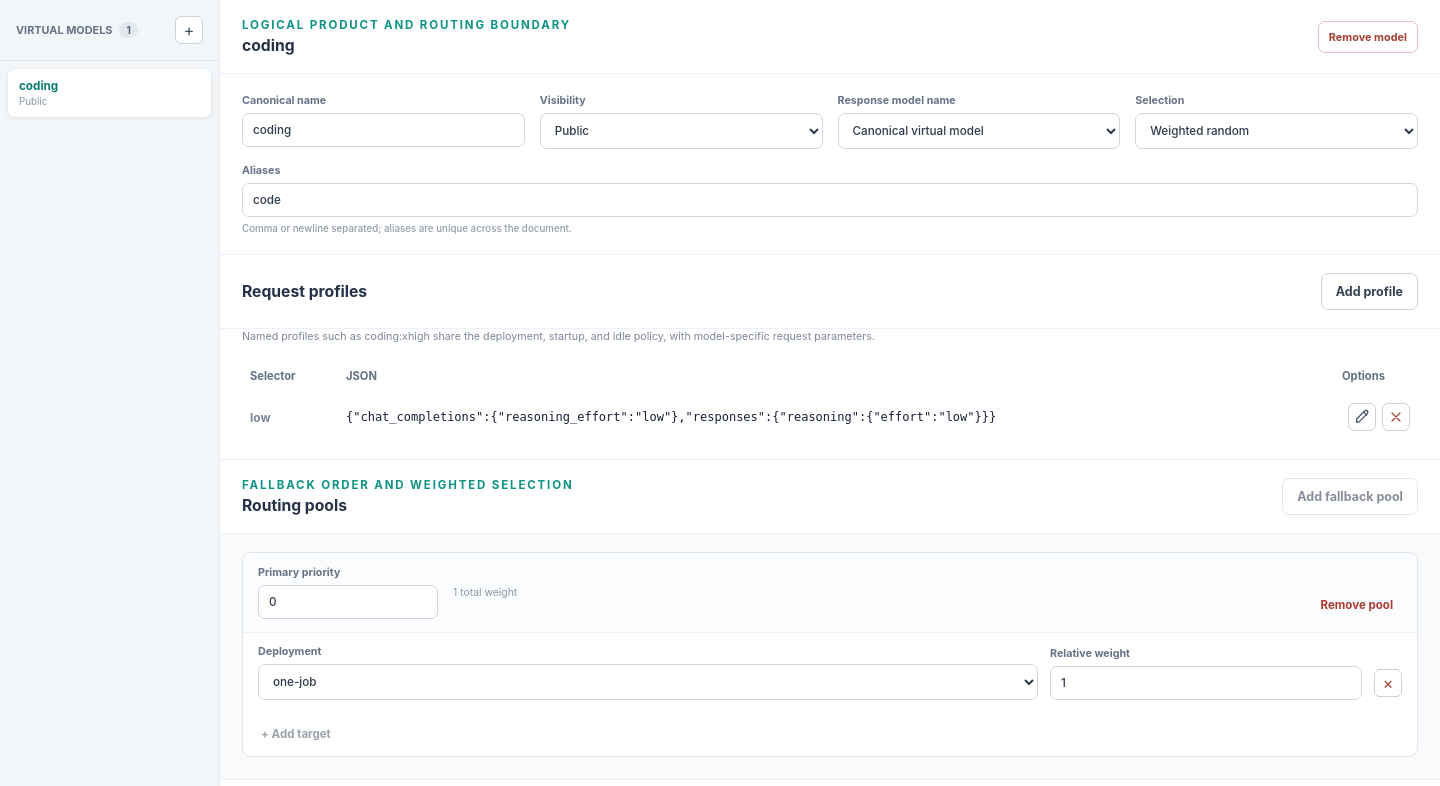
rejects a conflicting selector and invalid JSON without losing the editor draft
Click the button "Add profile" at (1369, 292), box [1321, 273, 1418, 310]
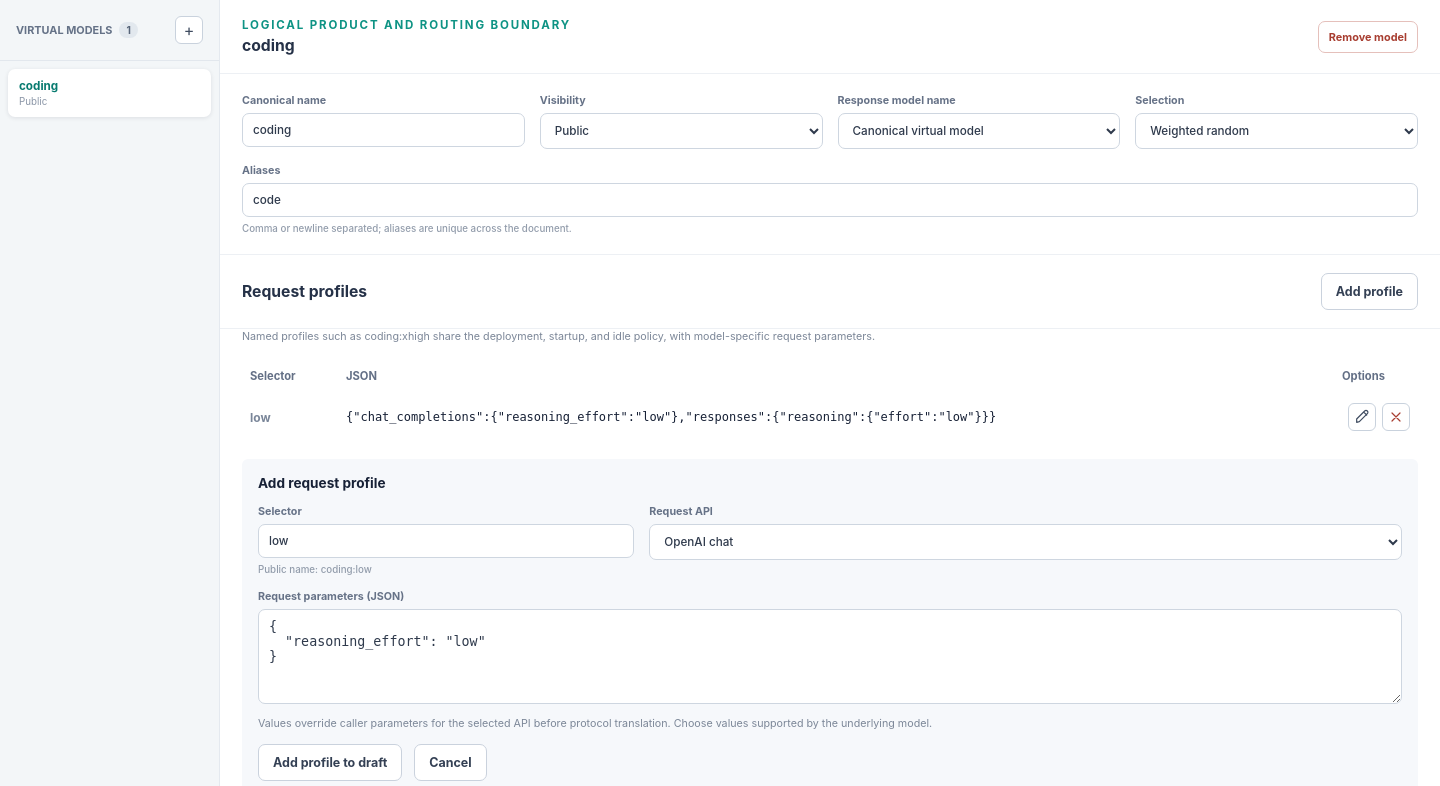
Click the button "Add profile to draft" at (330, 763), box [258, 744, 402, 781]
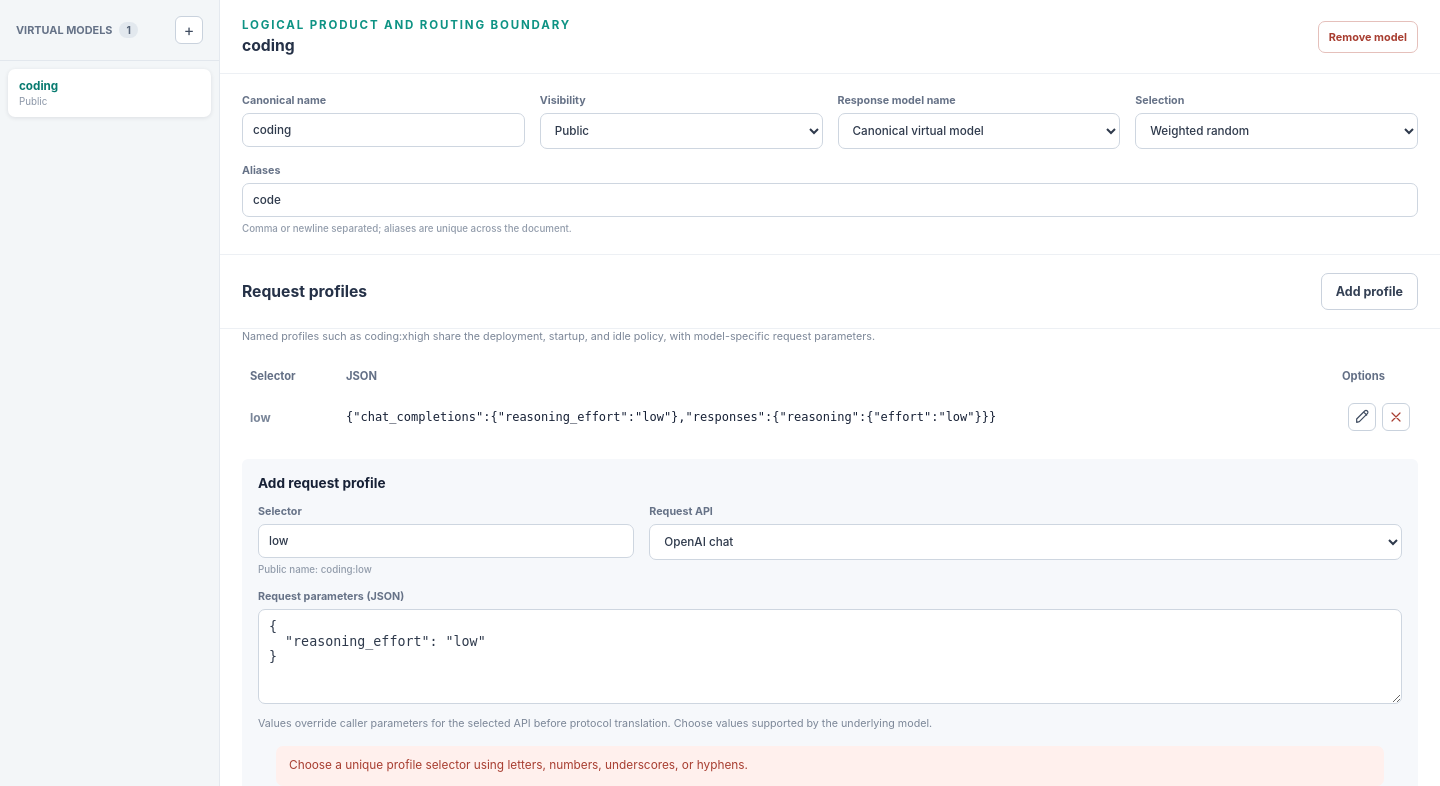
expect the message shows "unique profile selector": met, box [289, 758, 748, 772]
Replace the text in the field named "Profile selector" with "high" at (446, 541), box [258, 524, 634, 558]
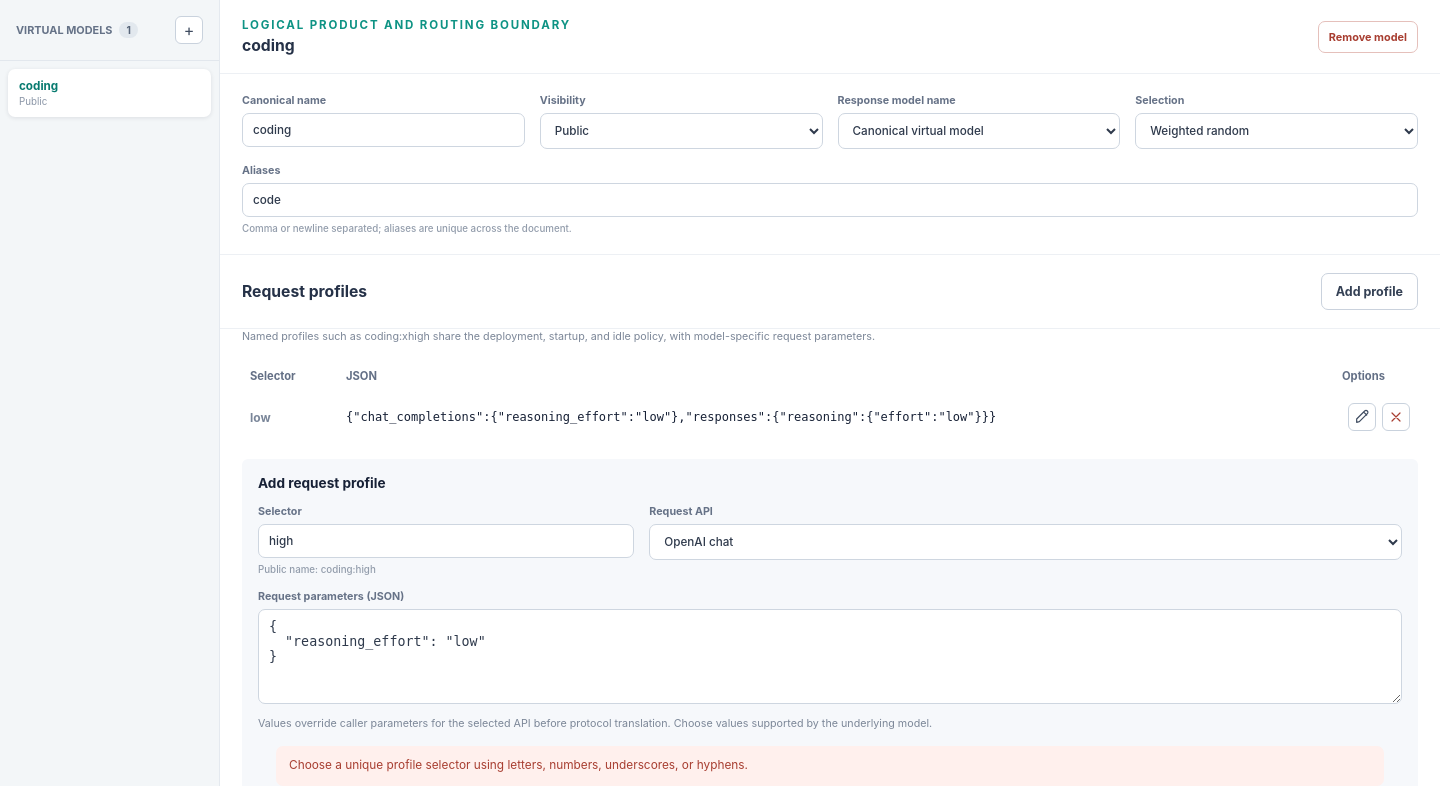
Replace the text in the text box labelled "Request parameters (JSON)" with "[]" at (830, 657), box [258, 609, 1402, 704]
(page scrolled)
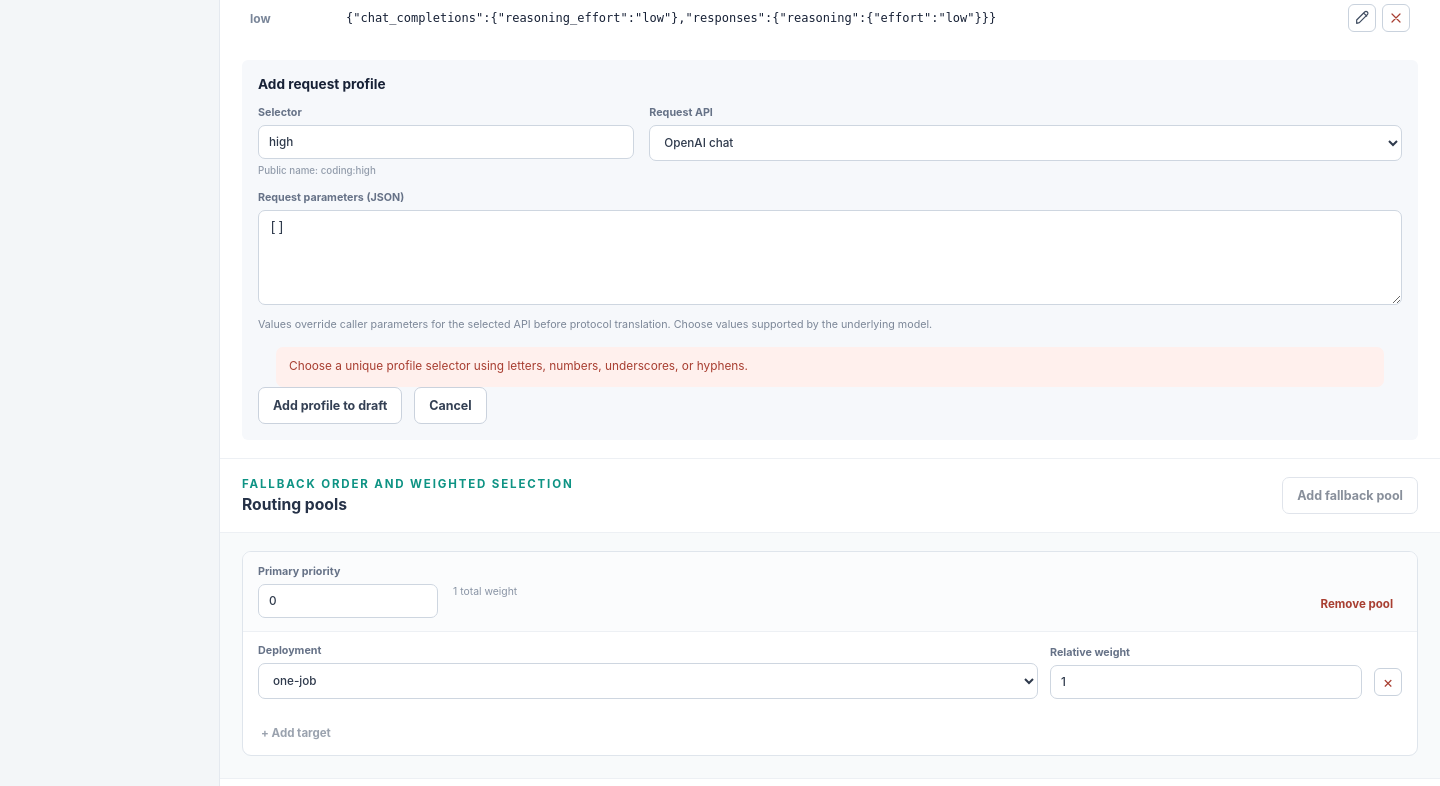
Click the button "Add profile to draft" at (330, 405), box [258, 387, 402, 424]
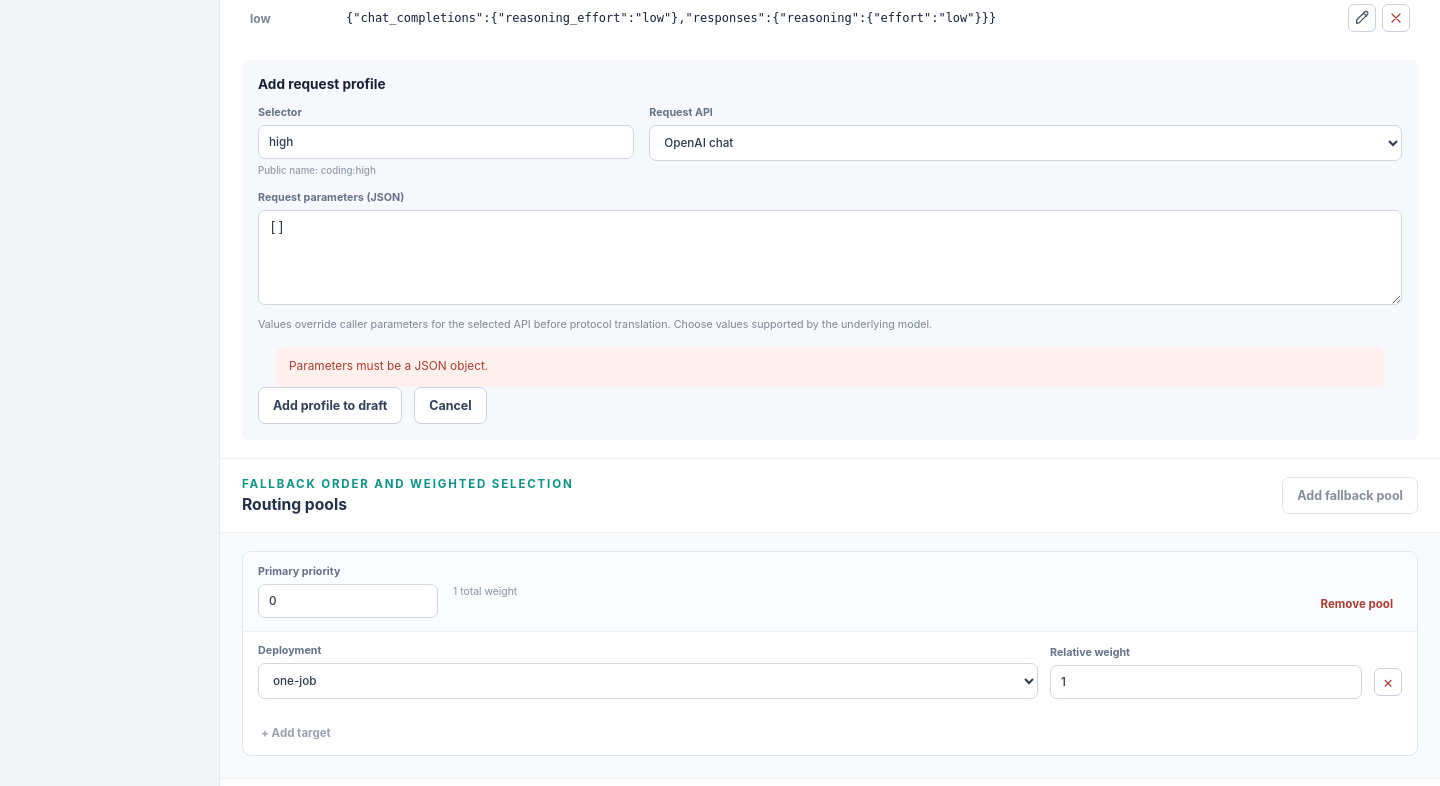
expect the message shows "JSON object": met, box [289, 359, 488, 373]
